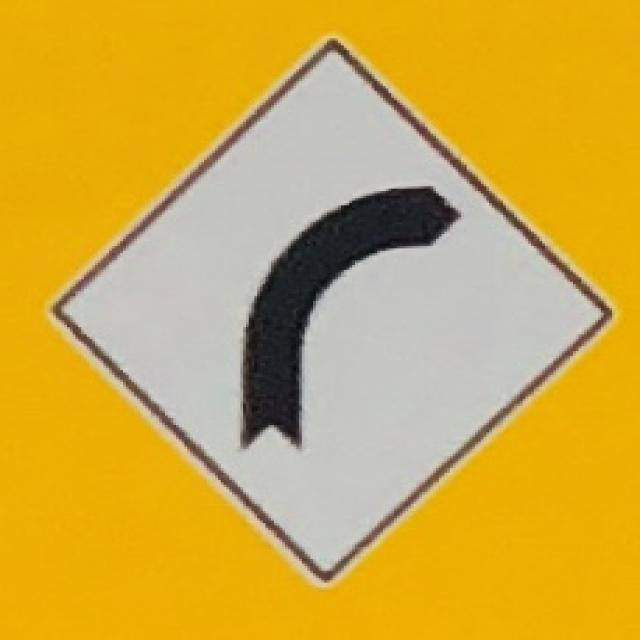right hand curve: (45, 32, 620, 597)
